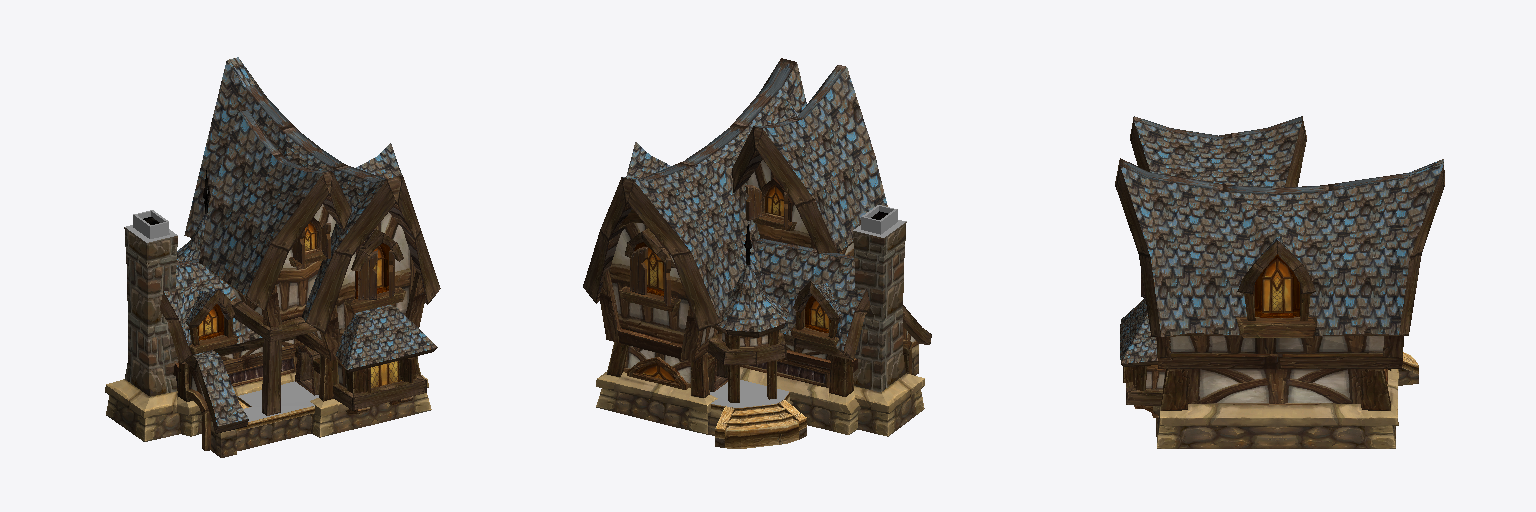
The picture shows the model from 3 angles: view 1: azimuth 30°, elevation 25°; view 2: azimuth 150°, elevation 25°; view 3: azimuth 270°, elevation 25°; orthographic projection.
Visible parts, largest first — view 1: houseexterioir; view 2: houseexterioir; view 3: houseexterioir.
Part boxes in pixels (x1,y1,x2,y2): houseexterioir: (105,57,440,457); houseexterioir: (583,58,931,448); houseexterioir: (1115,116,1444,448).
Size of the model in its own units: 35.53 by 34.24 by 37.37.
Materials: 27 (25 with a texture image).